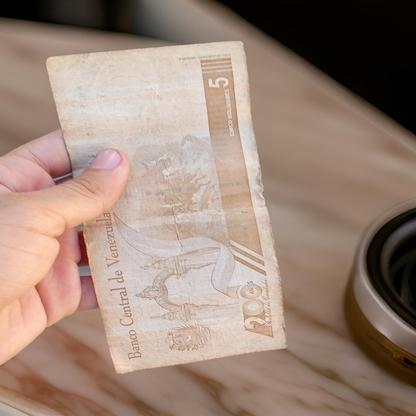five-back-vef: (46, 40, 288, 374)
